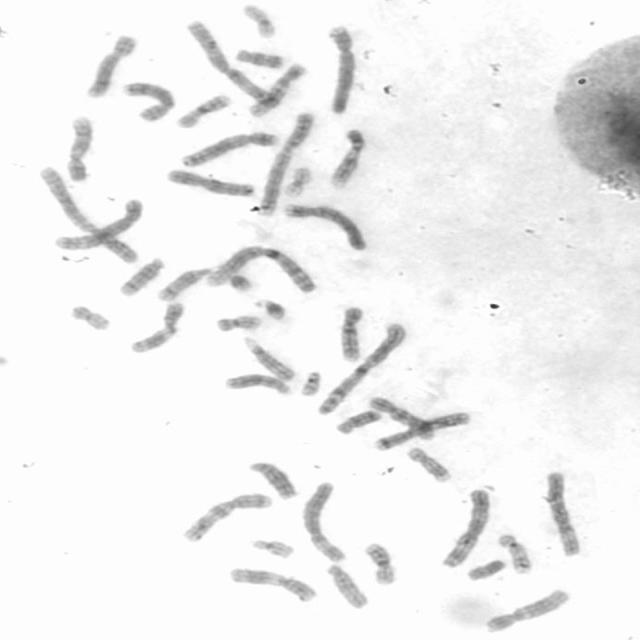A1: (314, 321, 408, 416), (202, 242, 318, 294)
A2: (36, 163, 141, 264), (255, 110, 315, 218)
A3: (184, 20, 280, 109), (438, 487, 490, 568)
B4: (280, 202, 370, 254), (324, 25, 359, 116)
B5: (53, 198, 144, 252), (178, 130, 280, 170)
C10: (368, 395, 437, 442), (337, 305, 365, 362)
C11: (228, 566, 319, 603), (129, 300, 186, 355)
C12: (481, 587, 572, 636), (246, 61, 308, 119)
C6: (299, 480, 346, 563), (542, 471, 582, 557)
C7: (182, 491, 272, 545), (373, 411, 472, 452)
C8: (84, 34, 136, 102), (121, 81, 177, 122)
C9: (328, 128, 367, 191), (65, 115, 94, 183)
D13: (245, 461, 300, 500), (223, 372, 294, 397)
D14: (156, 265, 223, 303), (116, 255, 166, 297)
D15: (242, 335, 297, 382), (322, 564, 372, 611)
E16: (175, 92, 233, 130), (360, 541, 398, 585)
E17: (405, 447, 454, 484), (496, 532, 532, 576)
E18: (334, 409, 382, 435), (234, 48, 287, 71)
F19: (241, 3, 280, 41), (283, 166, 313, 199)
F20: (68, 303, 115, 332), (212, 314, 266, 333)
G21: (249, 298, 287, 322), (221, 272, 256, 294)
G22: (251, 536, 294, 559), (299, 370, 322, 398)
X: (164, 168, 256, 199)
Y: (465, 559, 508, 582)
